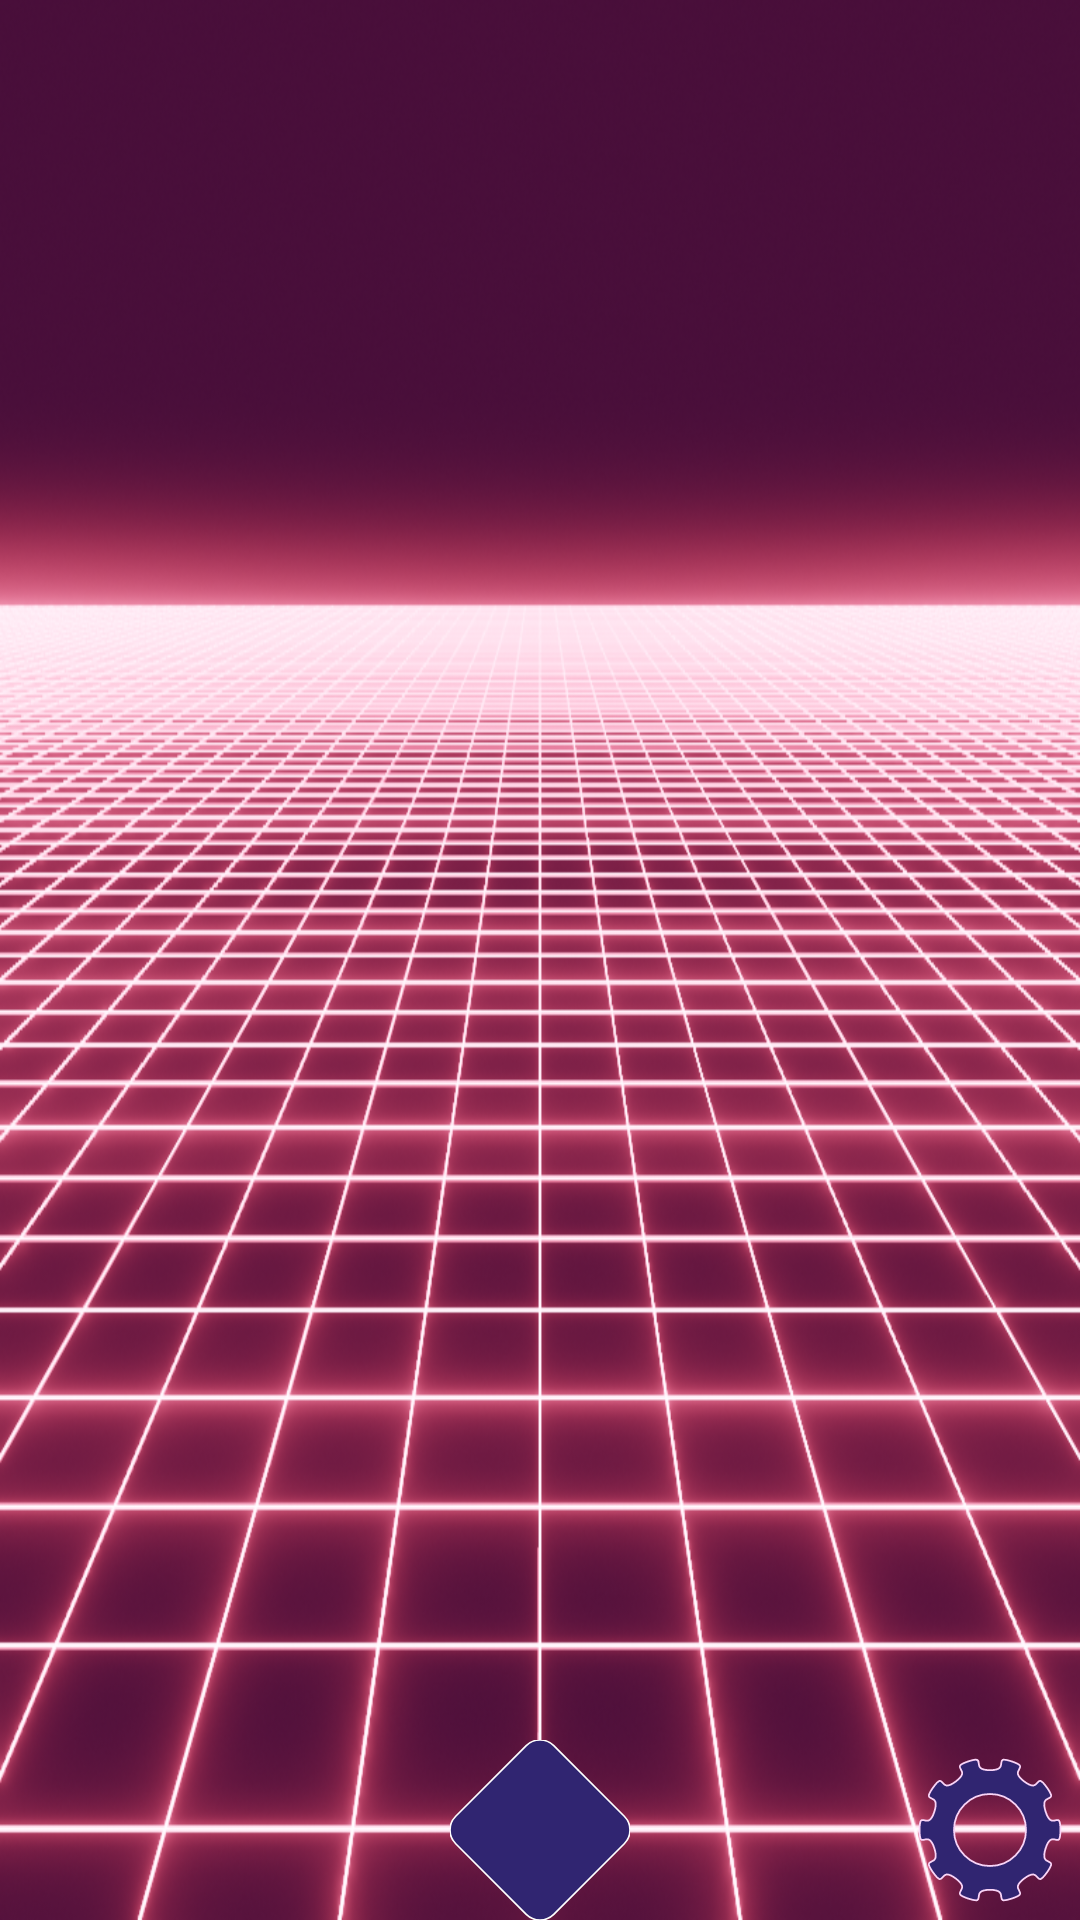

Point at icon controls on the screen. Image size 1080w x 1920h, points as [x,y].
diamond: [540,1830]
gear: [990,1830]
